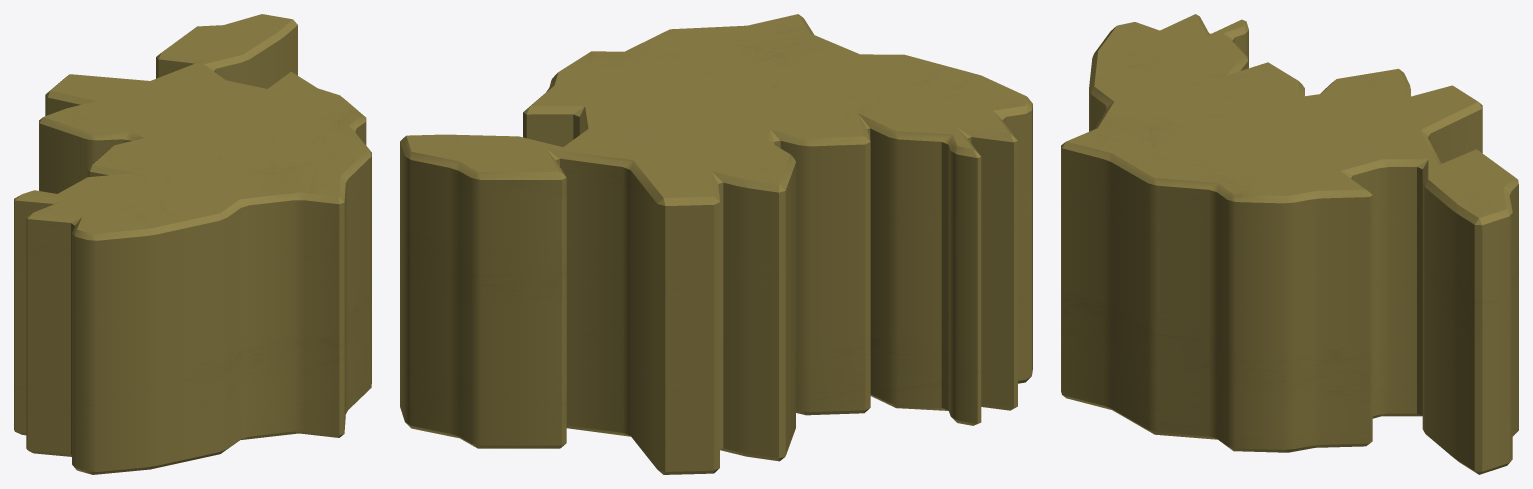
File: ireland.DAE
3 renders of one model, left to right at view 1: azimuth 30°, elevation 25°; view 2: azimuth 150°, elevation 25°; view 3: azimuth 270°, elevation 25°, orthographic. The views are drawn at different scales.
Visible parts, largest first — view 1: Ireland; view 2: Ireland; view 3: Ireland.
Boxes of the visible parts, box(x1,y1,x2,y2) form: Ireland: box(14, 14, 371, 474); Ireland: box(400, 14, 1032, 474); Ireland: box(1061, 14, 1518, 474).
Bounding box in the file's own units: 43.73 × 40.38 × 25.
1 material, 1 textured.
